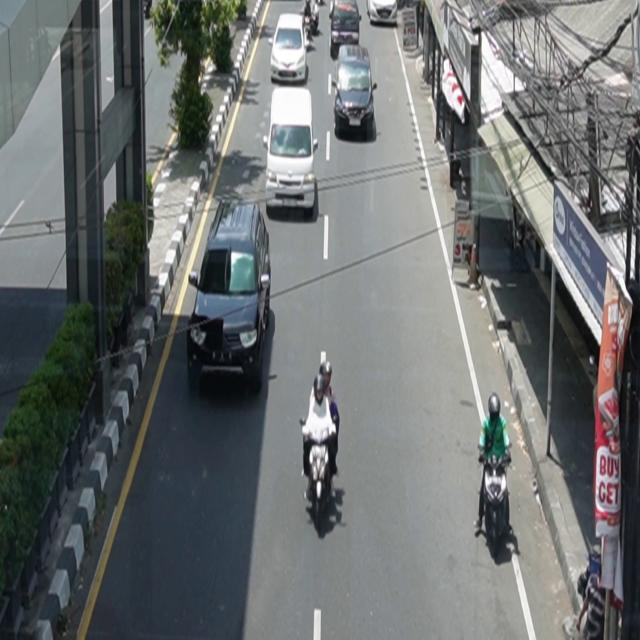car: (187, 196, 272, 392), (264, 87, 319, 215), (331, 45, 378, 133), (269, 14, 308, 85), (367, 1, 398, 26)
